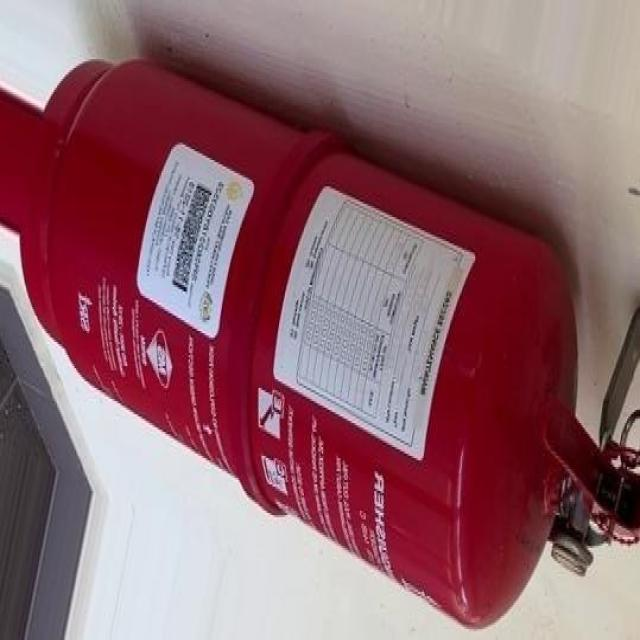fire_extinguisher: (16, 48, 638, 638)
